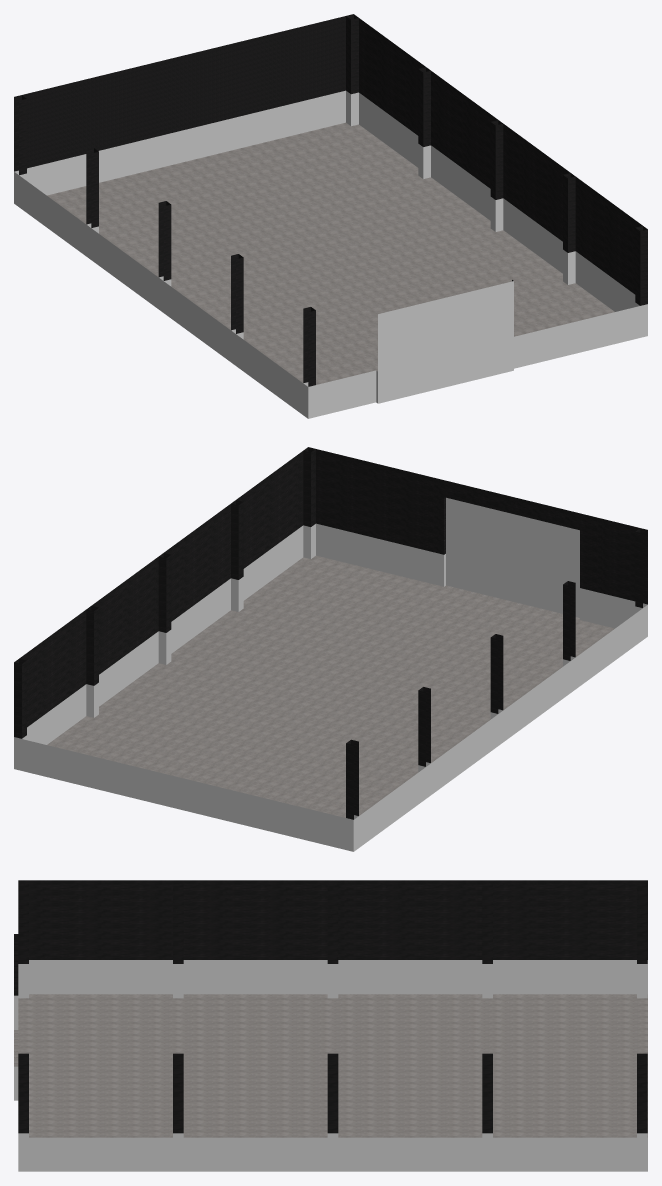
File: warehouse.fbx
The picture shows the model from 3 angles, top to bottom: view 1: azimuth 30°, elevation 25°; view 2: azimuth 150°, elevation 25°; view 3: azimuth 270°, elevation 25°; orthographic projection. The views are drawn at different scales.
Parts seen in each view (by area): view 1: Room, Cube.001; view 2: Room, Cube.001; view 3: Room, Cube.001.
Boxes of the visible parts, box(x1,y1,x2,y2) form: Room: box(14, 14, 647, 418); Cube.001: box(14, 14, 647, 418); Room: box(14, 447, 647, 851); Cube.001: box(14, 448, 642, 819); Room: box(14, 880, 647, 1171); Cube.001: box(18, 884, 647, 1137).
Size of the model in its own units: 10000 by 3000 by 15100.
